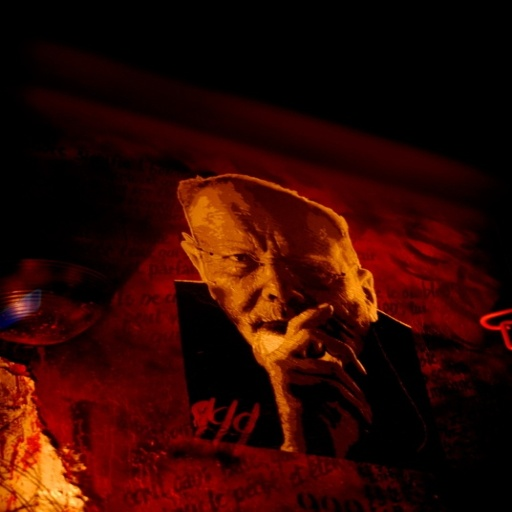hand: (256, 304, 367, 456)
